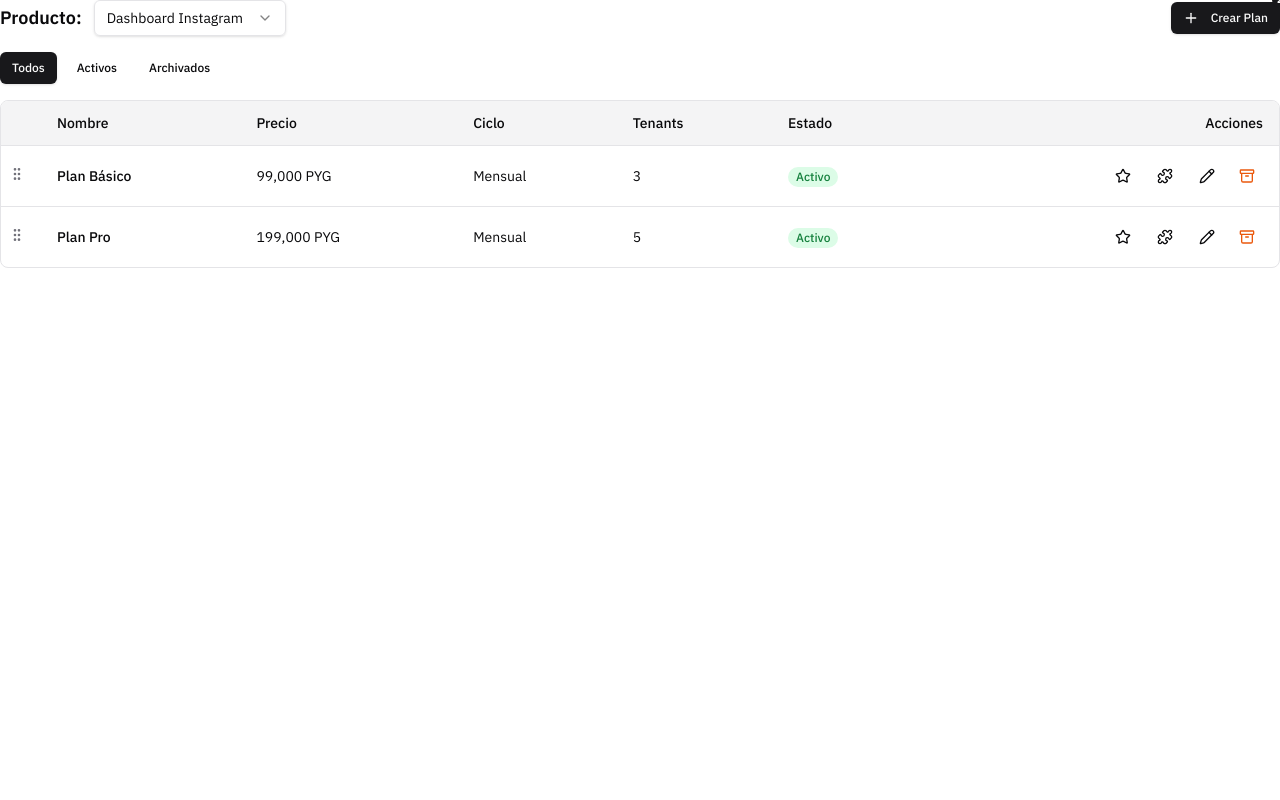
PlansPage — Module Assignment › disables buttons while saving
What coordinates should you click on to do the following:
click the button named "Módulos de Plan Básico"
I would click on:
 (1165, 176)
Its box is [1147,158,1183,194].
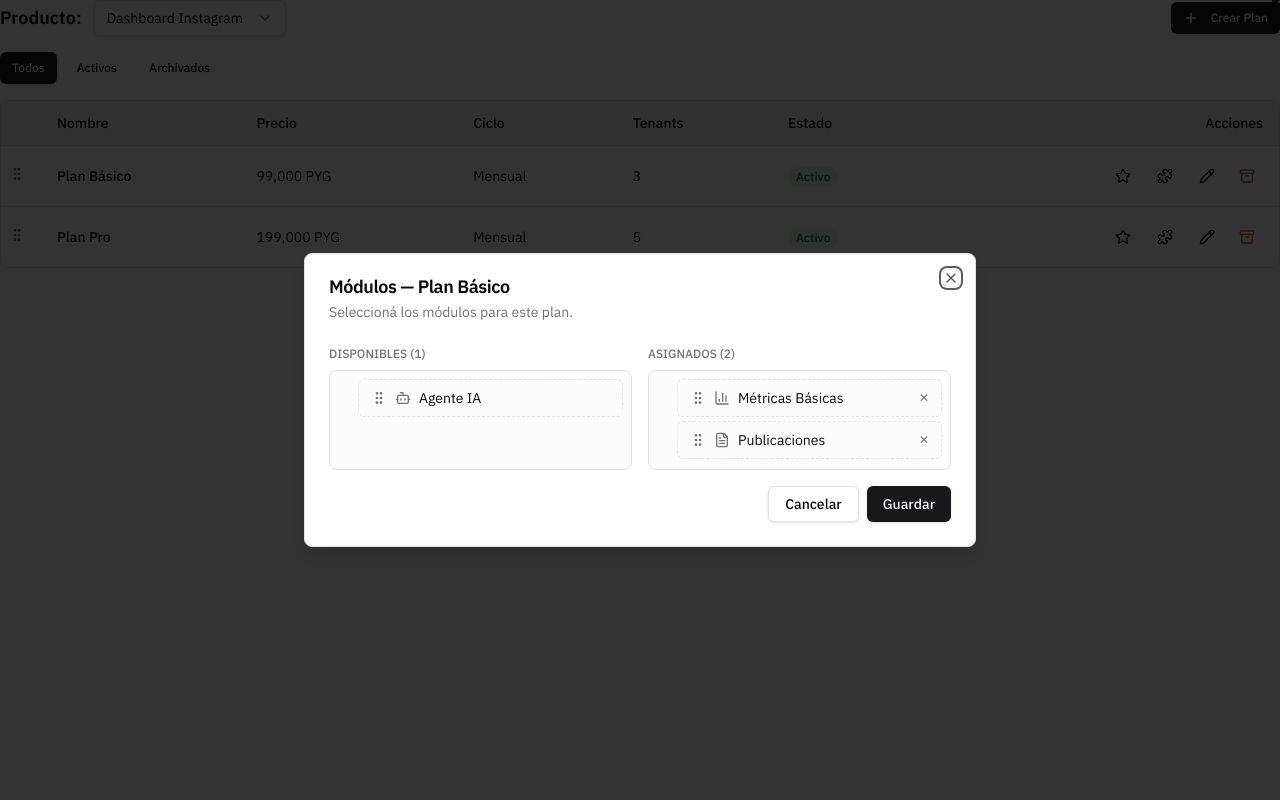
Expected: the heading "Asignados (2)" is shown, [648,346,735,361]
What coordinates should you click on to do the following:
click the button "Guardar"
I would click on:
 (909, 504)
Its box is [867,486,951,522].
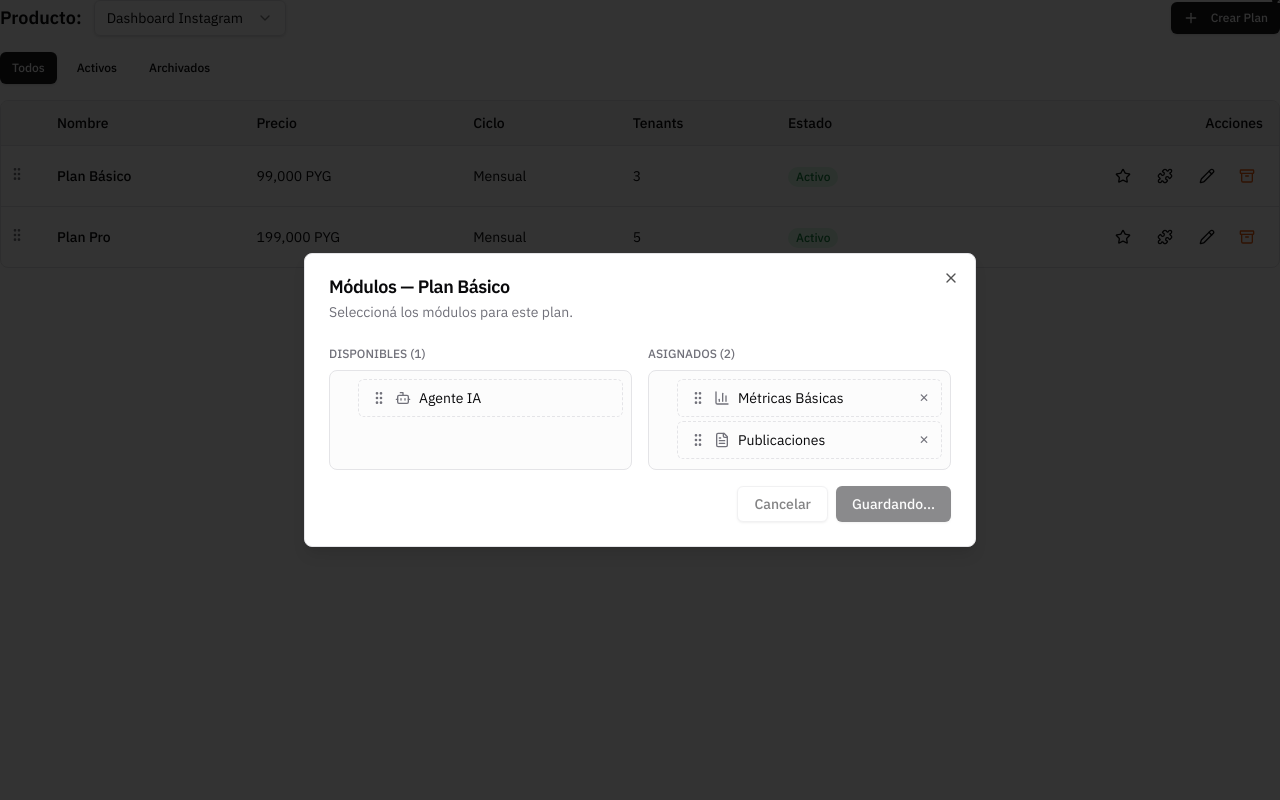
Expected: the button "Guardando..." is shown, [836,486,951,522]
Expected: the button "Cancelar" is disabled, [737,486,828,522]
